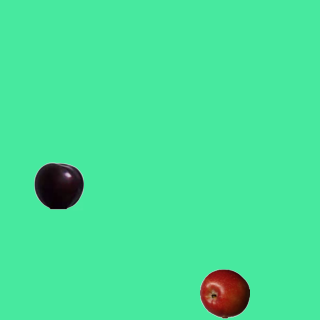Apple Braeburn: (199, 268, 249, 318)
Cherry Wax Black: (33, 160, 83, 210)
